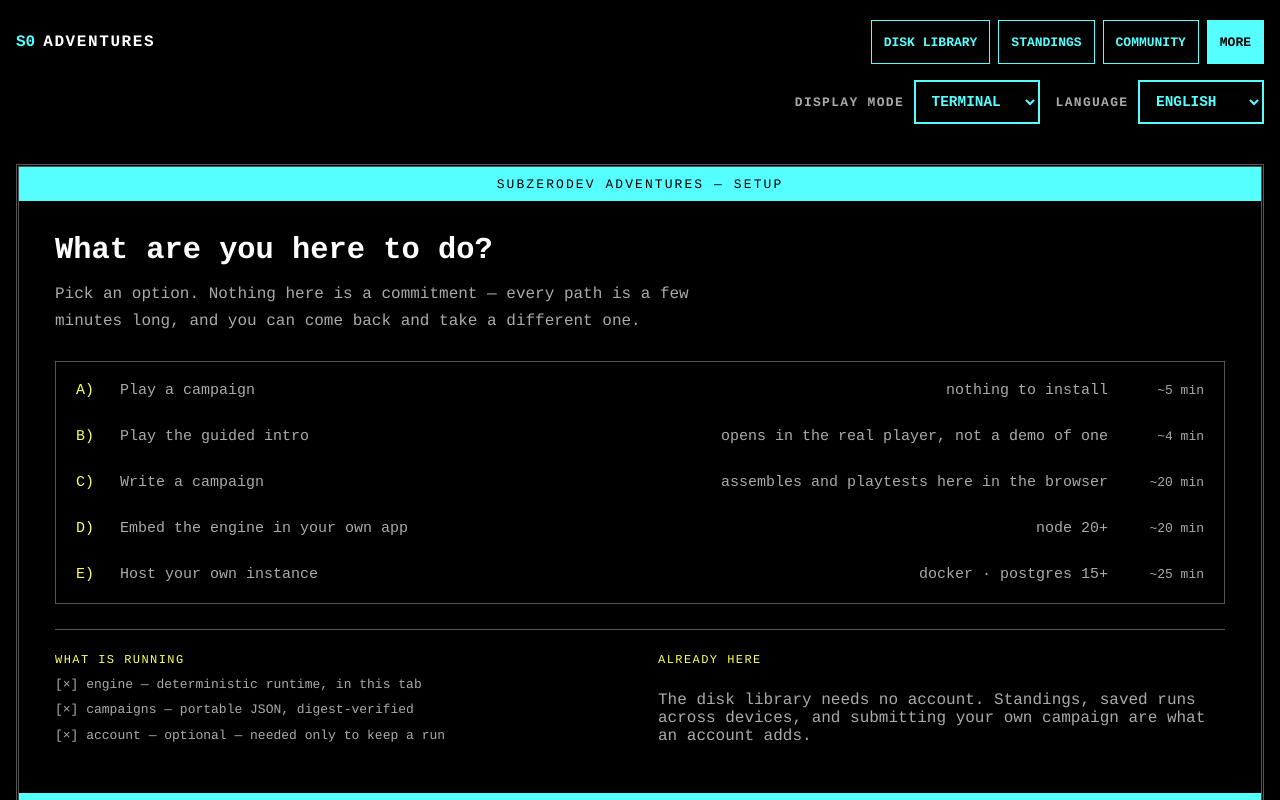
Test: StartPage › returns to the fork from F3 MENU
The image size is (1280, 800).
Click the button "A) Play a campaign nothing to install ~5 min": (188, 390) 62,368 -> 1218,412
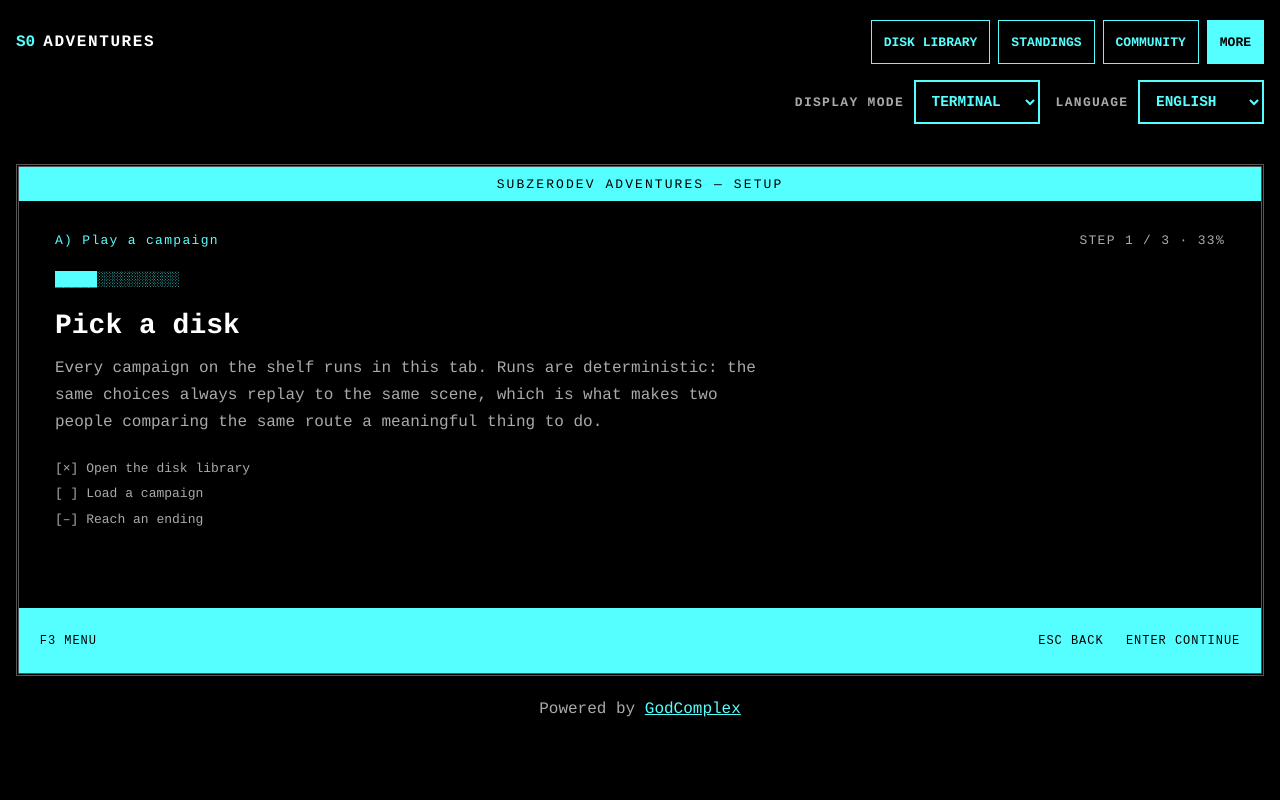
Click the button "F3 MENU": (68, 641) 37,619 -> 100,663
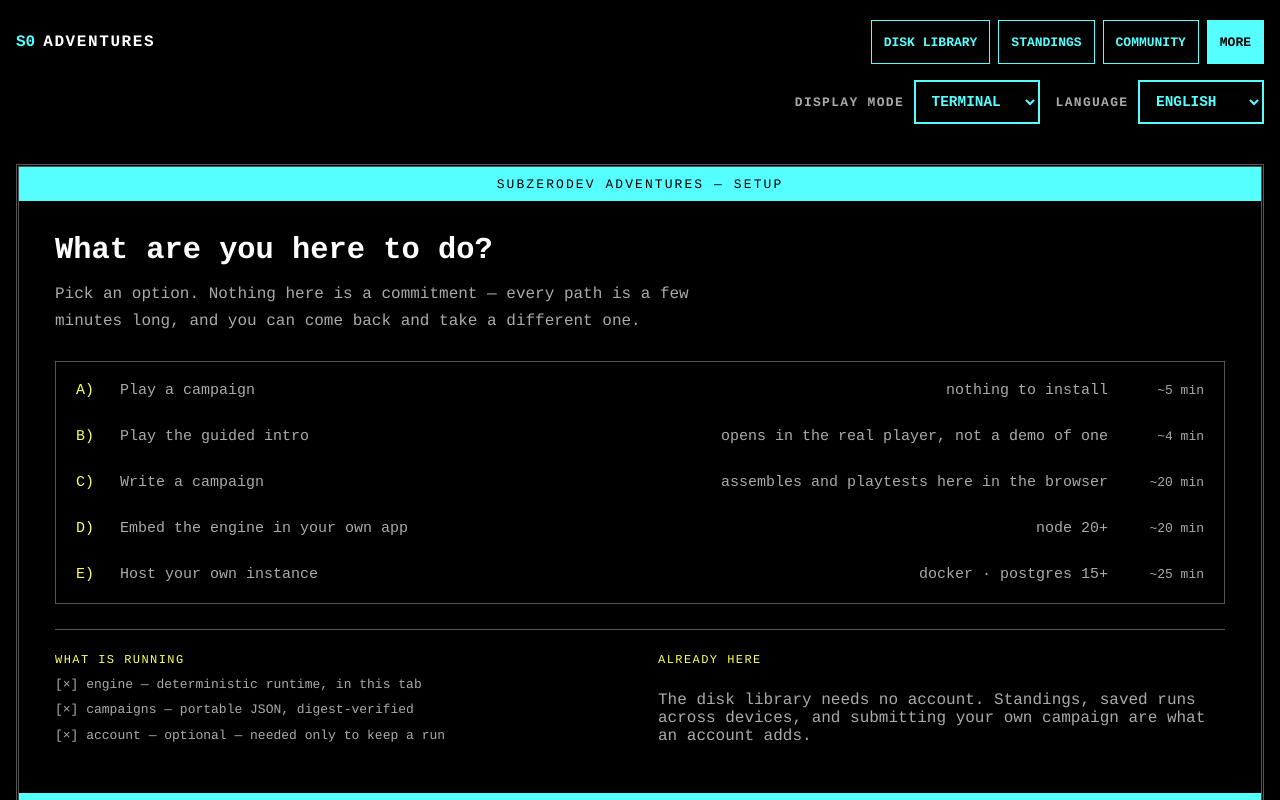
Now the heading "What are you here to do?" is shown, box 55,234 -> 493,268
